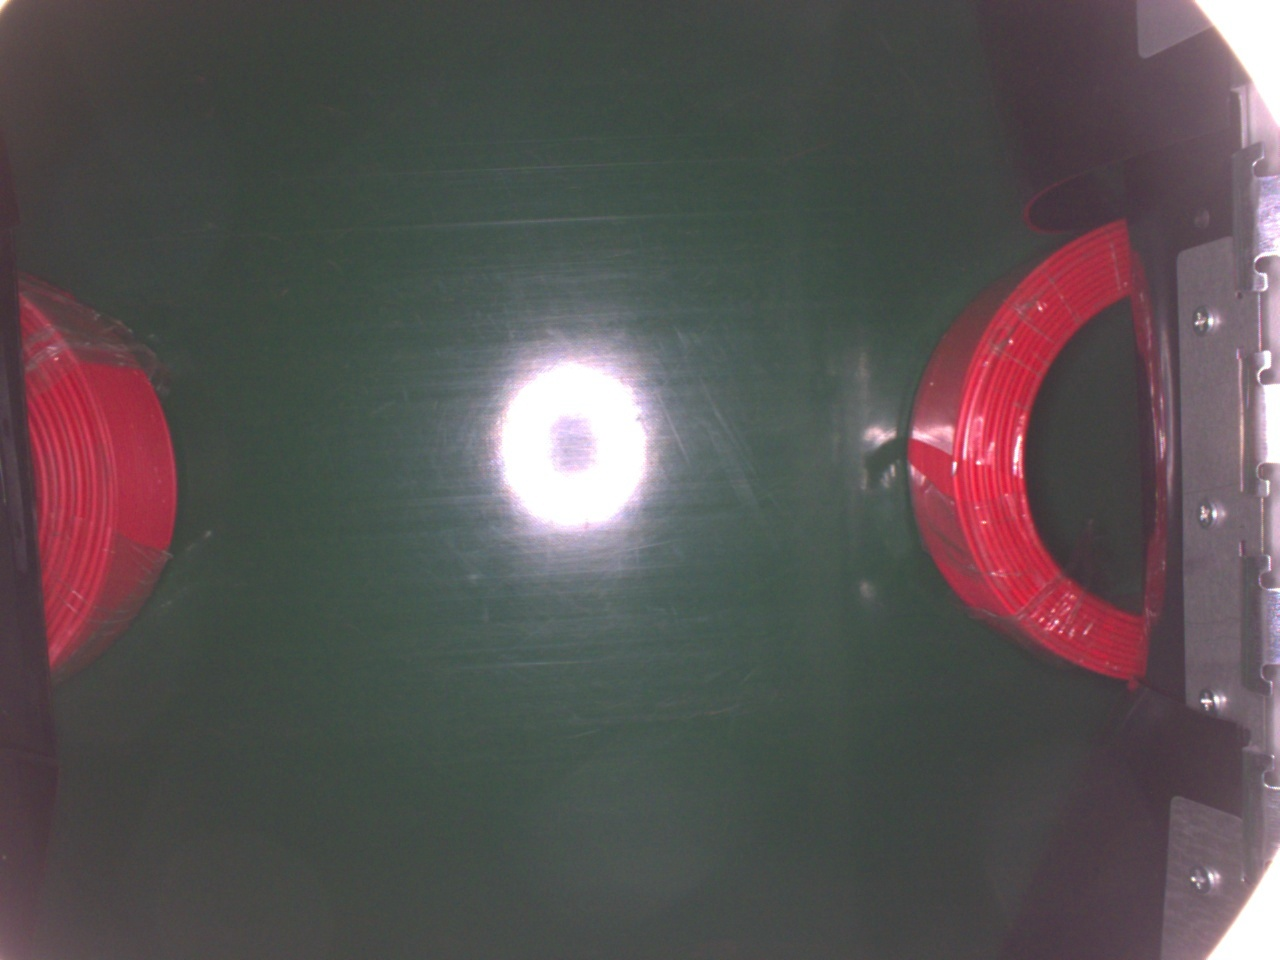red: (903, 214, 1147, 686), (17, 277, 176, 690)
